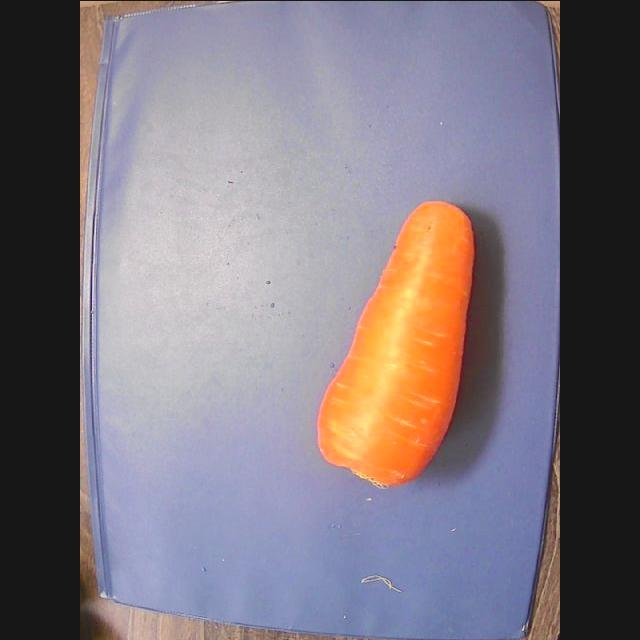zanahoria: (317, 200, 473, 484)
